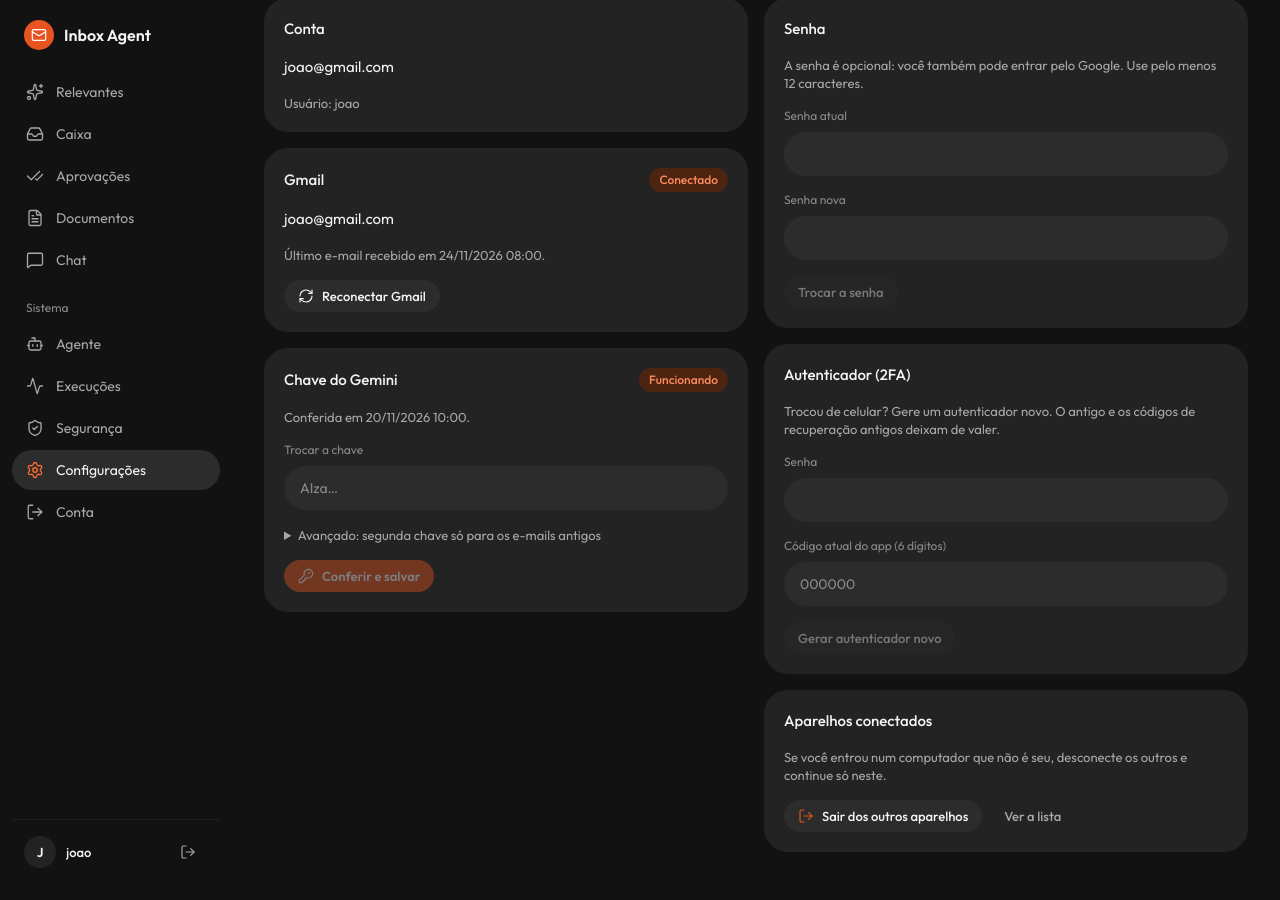
it: sign_out_other_devices_reports_how_many
(page scrolled)
Click the button "Sair dos outros aparelhos".
click(883, 816)  # box x1=784 y1=800 x2=982 y2=832
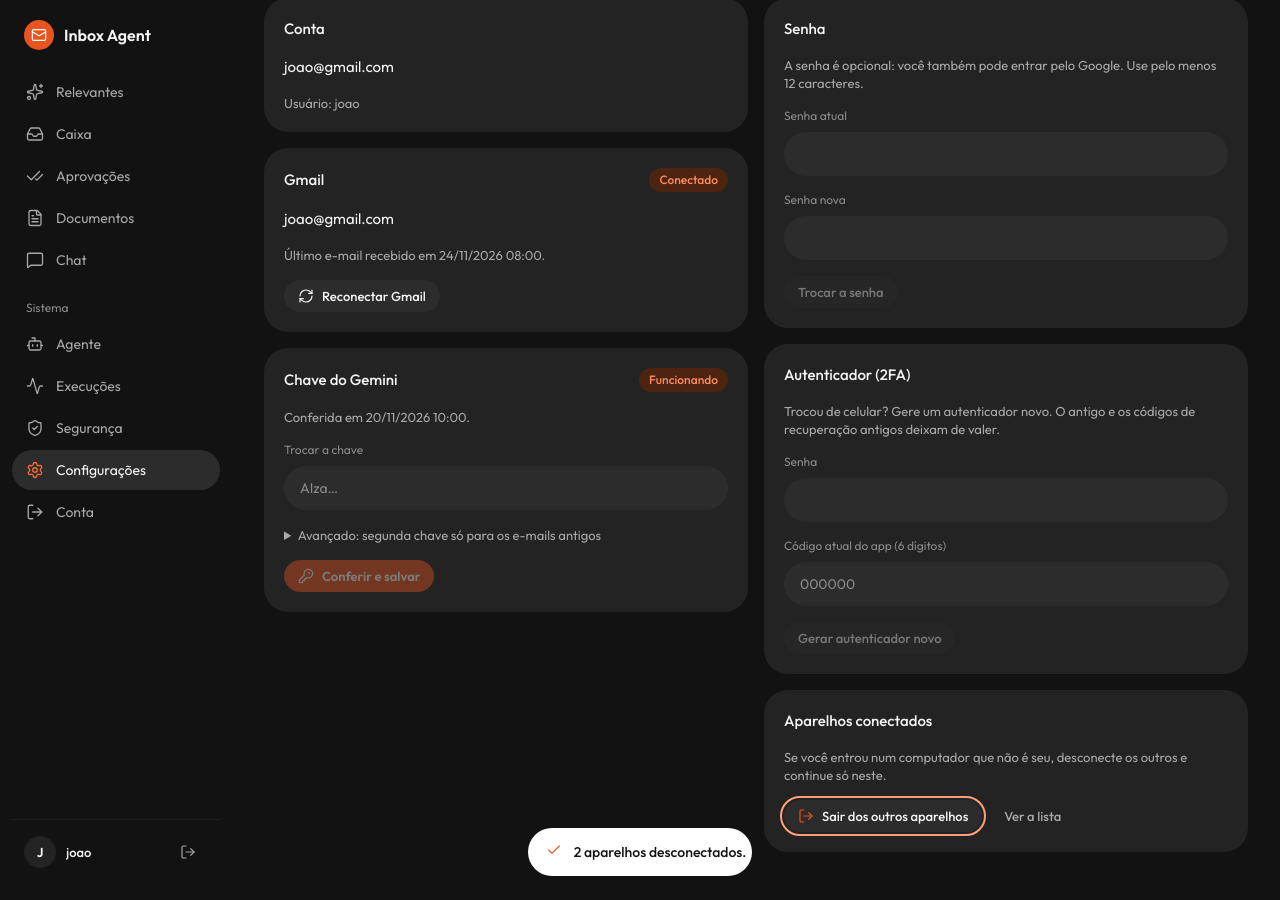
Expected: the text "2 aparelhos desconectados." is shown, x1=574 y1=843 x2=746 y2=861
